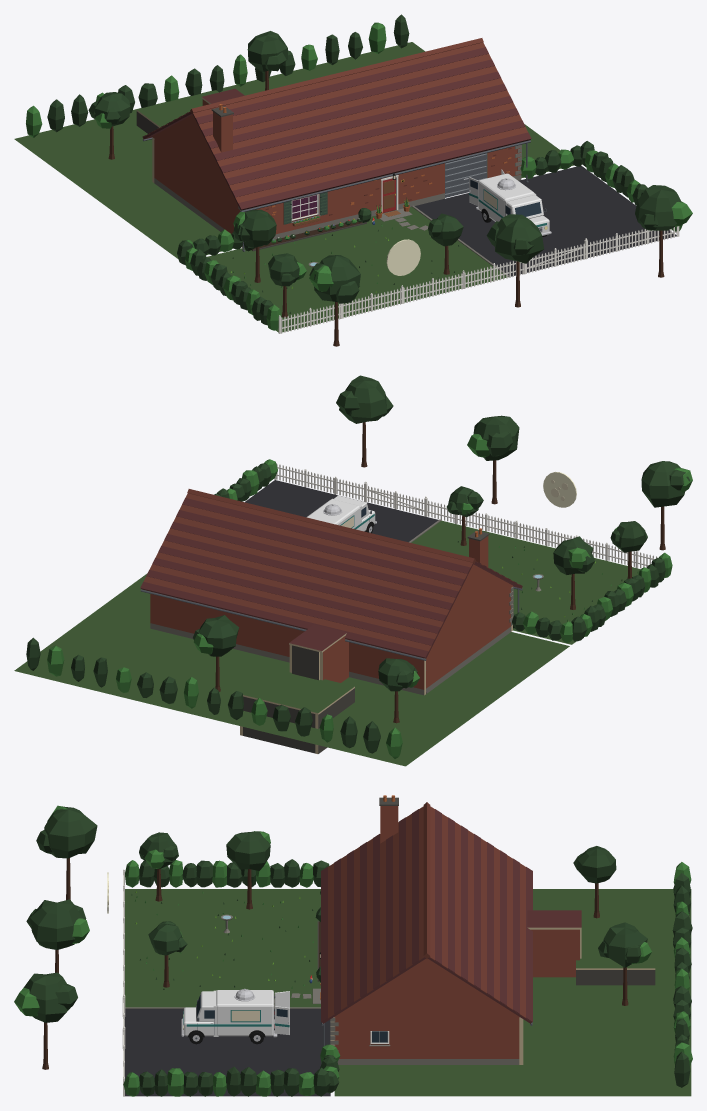
Rendered from house_a.glb.
The picture shows the model from 3 angles, top to bottom: view 1: azimuth 30°, elevation 25°; view 2: azimuth 150°, elevation 25°; view 3: azimuth 270°, elevation 25°; orthographic projection. The views are drawn at different scales.
Visible parts, largest first — view 1: ceiling_roof, backyard_static, ground_static, outside_static, shell_static, ceiling_rooms, moon, dining_static; view 2: backyard_static, ceiling_roof, outside_static, shell_static, ground_static, ceiling_rooms, moon; view 3: backyard_static, ceiling_roof, ground_static, outside_static, shell_static, ceiling_rooms.
Boxes of the visible parts, left/top/right/bottom form: ceiling_roof: left=142, top=38, right=531, bottom=211; backyard_static: left=14, top=14, right=692, bottom=346; ground_static: left=206, top=165, right=676, bottom=332; outside_static: left=177, top=141, right=682, bottom=333; shell_static: left=136, top=99, right=521, bottom=247; ceiling_rooms: left=136, top=88, right=244, bottom=127; moon: left=386, top=239, right=420, bottom=275; dining_static: left=283, top=192, right=327, bottom=226; backyard_static: left=14, top=375, right=692, bottom=766; ceiling_roof: left=140, top=489, right=522, bottom=660; outside_static: left=214, top=459, right=672, bottom=643; shell_static: left=150, top=587, right=512, bottom=753; ground_static: left=245, top=480, right=640, bottom=644; ceiling_rooms: left=242, top=624, right=354, bottom=714; moon: left=543, top=471, right=576, bottom=507; backyard_static: left=14, top=805, right=692, bottom=1096; ceiling_roof: left=321, top=795, right=532, bottom=1025; ground_static: left=125, top=889, right=330, bottom=1096; outside_static: left=122, top=831, right=340, bottom=1096; shell_static: left=330, top=929, right=655, bottom=1064; ceiling_rooms: left=527, top=910, right=655, bottom=969.
Size of the model in its own units: 27.2 by 9.08 by 35.97.
1 material, 1 textured.
